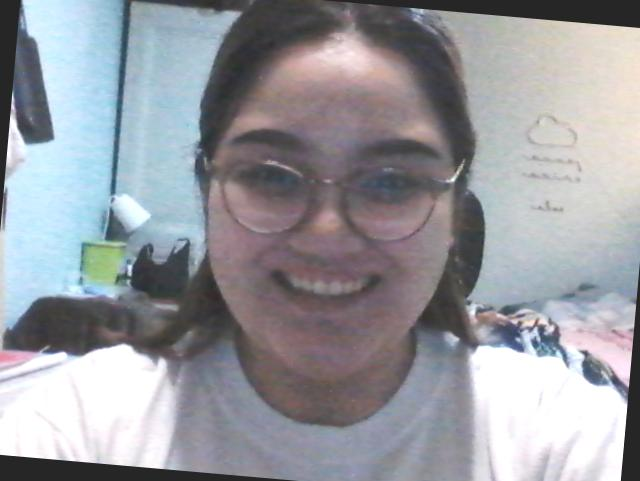senang: (184, 35, 473, 390)
